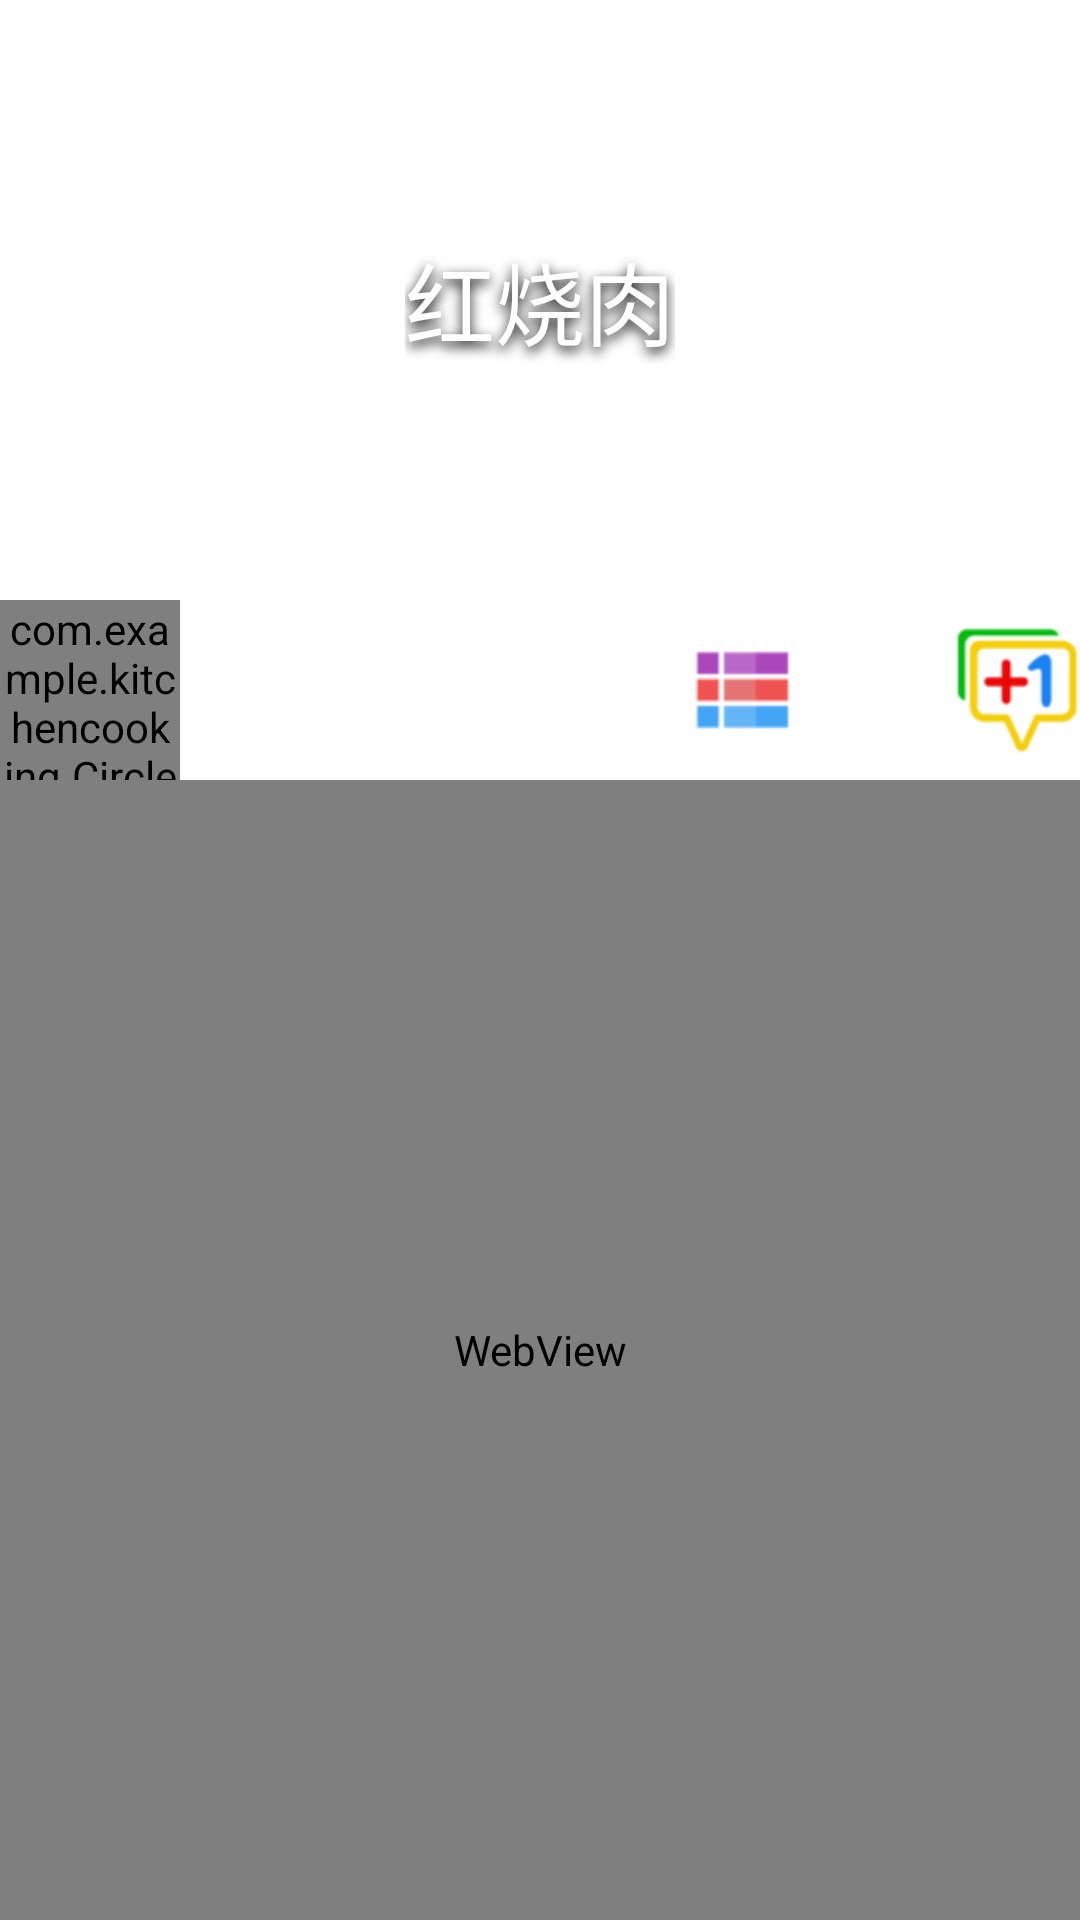

Where to tap for icons on this 1080w x 1920h app screen, as (x,y):
splist: (742,690)
